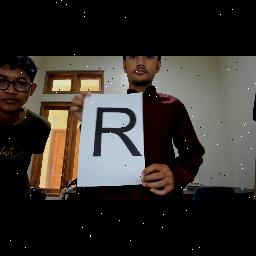r: (90, 102, 144, 162)
